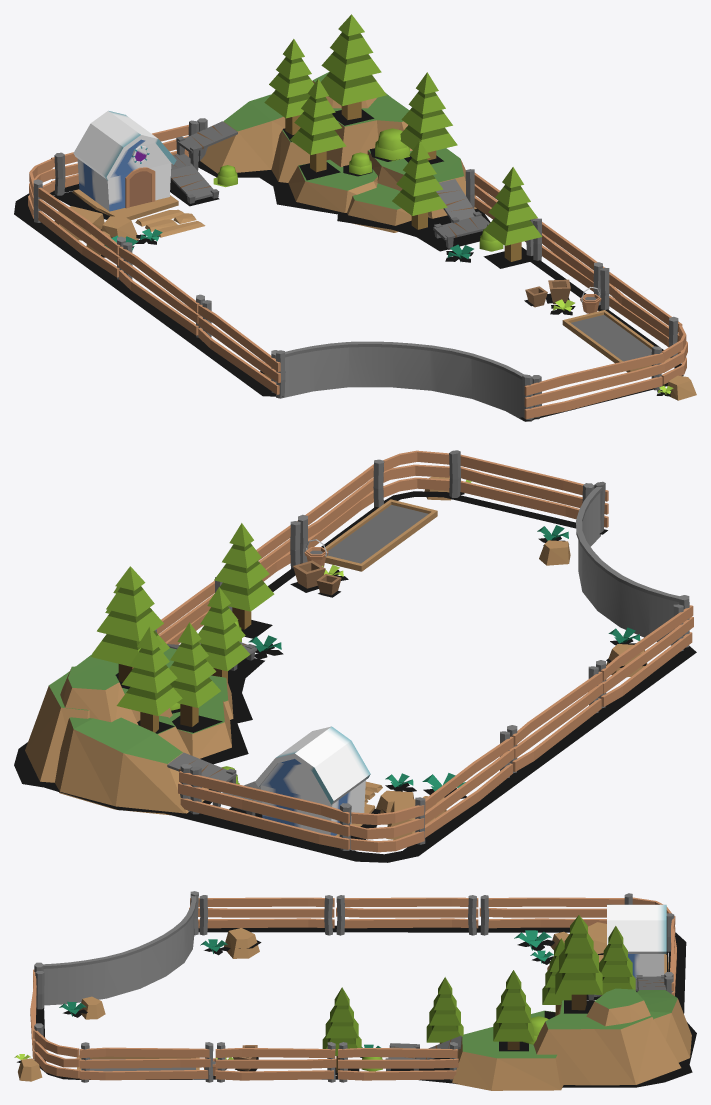
File: xweilan_1004_1.FBX
3 views of the same model, one above another, from view 1: azimuth 30°, elevation 25°; view 2: azimuth 150°, elevation 25°; view 3: azimuth 270°, elevation 25° (orthographic). The views are drawn at different scales.
Parts seen in each view (by area): view 1: xweilan_1004_1; view 2: xweilan_1004_1; view 3: xweilan_1004_1.
Boxes of the visible parts, box(x1,y1,x2,y2) form: xweilan_1004_1: box(14, 14, 696, 421); xweilan_1004_1: box(14, 450, 696, 862); xweilan_1004_1: box(14, 891, 696, 1090).
Size of the model in its own units: 4418 by 1900 by 7736.
